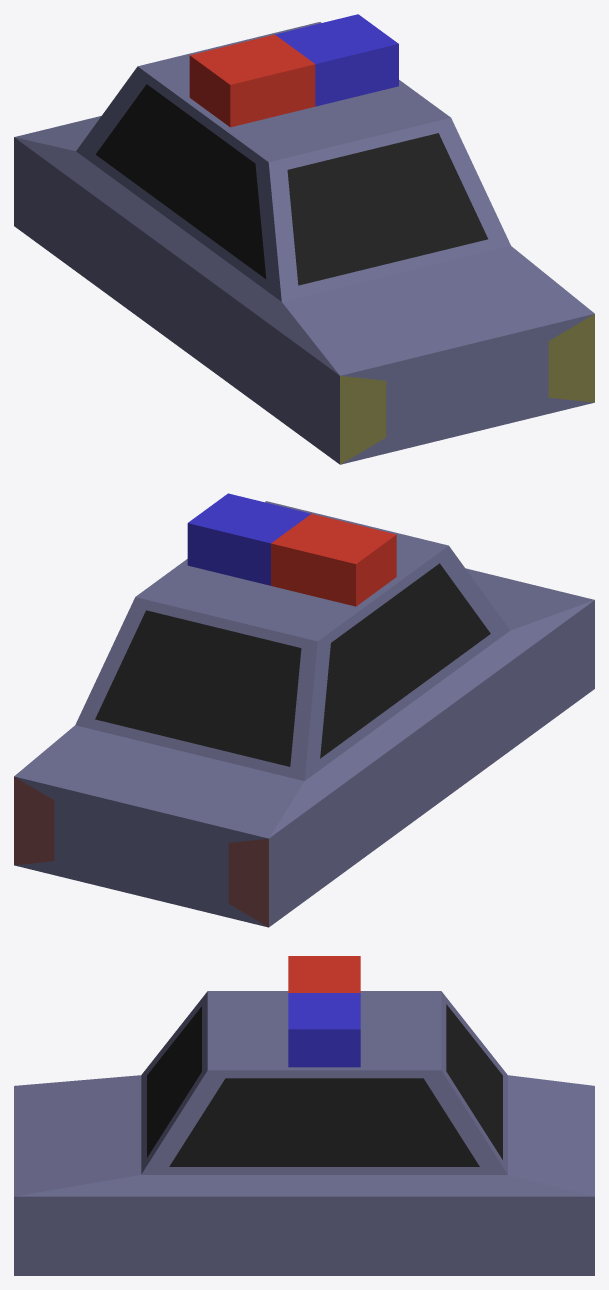
The model's file is PoliceCar.fbx.
The picture shows the model from 3 angles, top to bottom: view 1: azimuth 30°, elevation 25°; view 2: azimuth 150°, elevation 25°; view 3: azimuth 270°, elevation 25°; orthographic projection. The views are drawn at different scales.
Parts seen in each view (by area): view 1: Cube; view 2: Cube; view 3: Cube.
Boxes of the visible parts, box(x1,y1,x2,y2) form: Cube: box(14, 14, 594, 464); Cube: box(14, 493, 594, 927); Cube: box(14, 956, 594, 1275).
Size of the model in its own units: 230 by 221 by 509.
